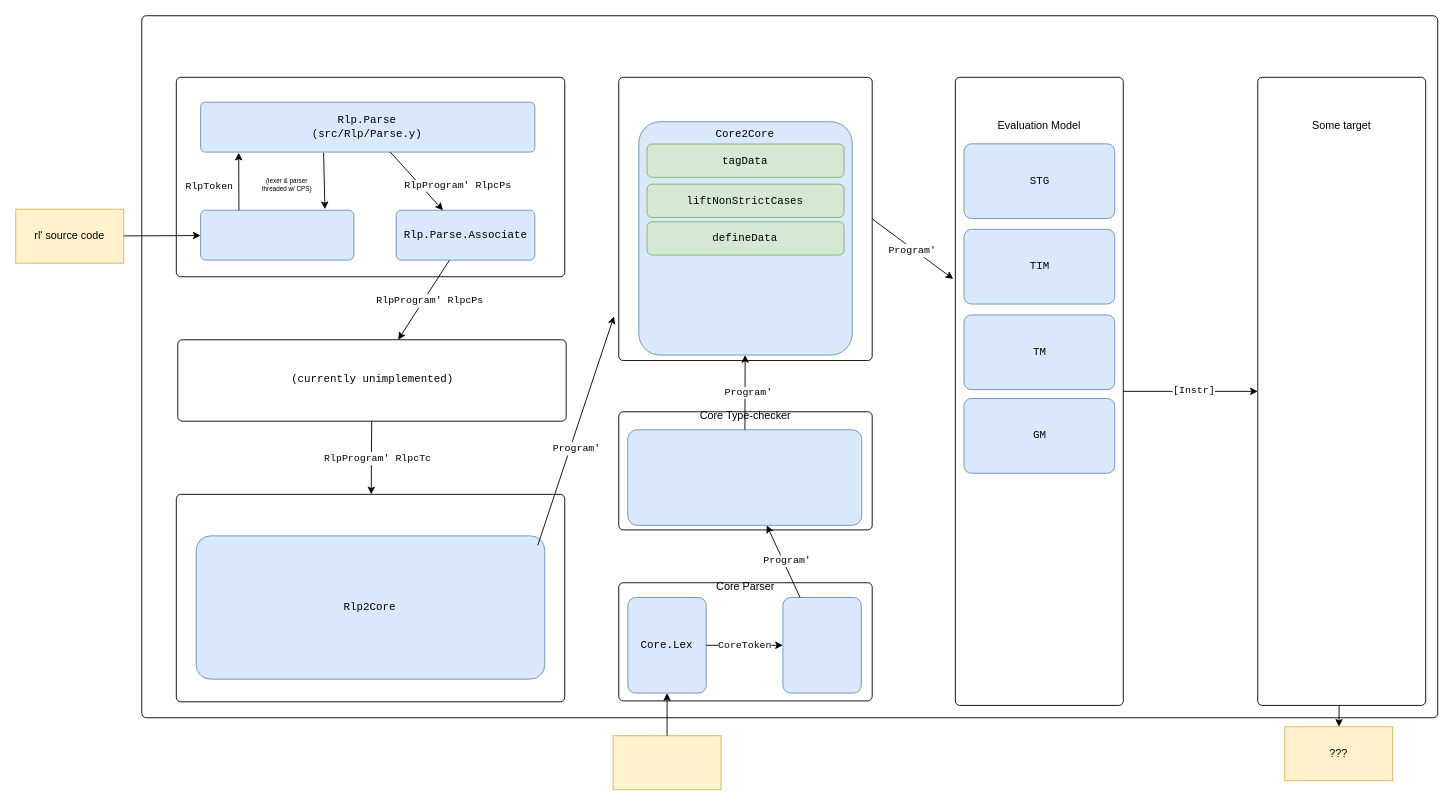
This 1454x806 diagram has some shape labels left out. The shapes that lost their labels are listed below. From the top down, each one's centre as x and y in pixels, then its label:
At point 789,49: "RLPC".
At point 370,89: "Parser".
At point 745,88: "Preprocessing".
At point 277,234: "Rlp.Lex (src/Rlp/Lex.x)".
At point 371,347: "Type-checker".
At point 744,477: "Core.HindleyMilner".
At point 370,514: "Desugarer".
At point 821,645: "Core.Parse".
At point 666,762: "Core source code".
